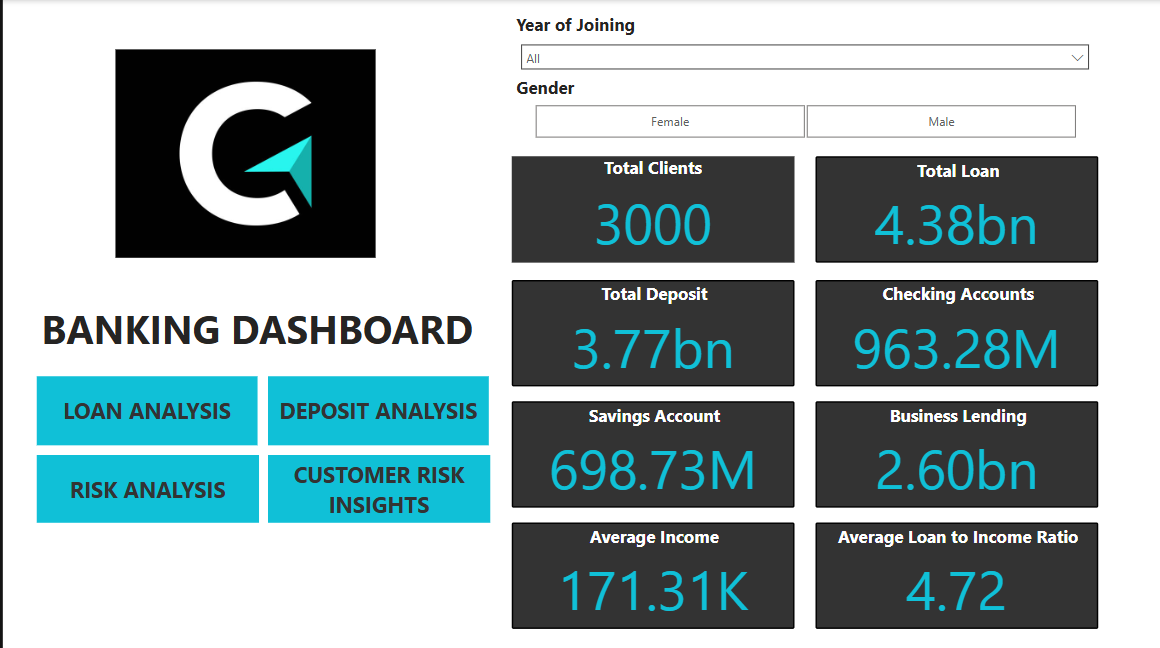

The dashboard page shown, as its layout file describes it:
{"tool":"powerbi","page":{"name":"Home","canvas":[1280,720],"ordinal":0},"visuals":[{"type":"textbox","box":[37.3,327.2,496.3,75.9],"z":0},{"type":"card","title":"Total Clients","fields":{"Values":["CountNonNull(Clients - Banking.Name)"]},"box":[558.5,171.5,310.1,116.6],"z":1000},{"type":"slicer","title":"Gender","fields":{"Values":["Gender.Gender"]},"box":[558.5,83.7,643.6,74.1],"z":2000},{"type":"card","title":"Total Loan","fields":{"Values":["Measure Table.Total Loan"]},"box":[891.9,171.5,310.1,116.6],"z":3000},{"type":"card","title":"Total Deposit","fields":{"Values":["Measure Table.Total Deposit"]},"box":[558.5,307.4,310.1,116.6],"z":4000},{"type":"card","title":"Checking Accounts","fields":{"Values":["Sum(Clients - Banking.Checking Accounts)"]},"box":[891.9,307.4,310.1,116.6],"z":5000},{"type":"card","title":"Savings Account","fields":{"Values":["Sum(Clients - Banking.Saving Accounts)"]},"box":[558.5,440.5,310.1,116.6],"z":6000},{"type":"card","title":"Business Lending","fields":{"Values":["Sum(Clients - Banking.Business Lending)"]},"box":[891.9,440.5,310.1,116.6],"z":7000},{"type":"slicer","title":"Year of Joining","fields":{"Values":["Clients - Banking.Year Of Joining"]},"box":[558.5,13.7,643.6,72.7],"z":8000},{"type":"actionButton","box":[37.3,413,242.6,75.9],"z":9000},{"type":"actionButton","box":[291.1,413,242.6,75.9],"z":10000},{"type":"actionButton","box":[37.3,498.8,243.8,74.6],"z":11000},{"type":"card","title":"Average Income","fields":{"Values":["Avg(Clients - Banking.Estimated Income)"]},"box":[558.5,573.6,310.1,116.6],"z":12000},{"type":"card","title":"Average Loan to Income Ratio","fields":{"Values":["Avg(Clients - Banking.Loan to Income Ratio)"]},"box":[891.9,573.6,310.1,116.6],"z":13000},{"type":"image","box":[37,49.4,458.3,238.8],"z":14000},{"type":"actionButton","box":[291.1,498.8,243.8,74.6],"z":14001}]}

Visuals, with their boxes in screenshot pixels (x1, y1, x2, y2), scaled from the page's 1280x720 canvas onto the 1160x648 screenshot:
textbox: <region>34, 294, 484, 363</region>
"Total Clients" card: <region>506, 154, 787, 259</region>
"Gender" slicer: <region>506, 75, 1089, 142</region>
"Total Loan" card: <region>808, 154, 1089, 259</region>
"Total Deposit" card: <region>506, 277, 787, 382</region>
"Checking Accounts" card: <region>808, 277, 1089, 382</region>
"Savings Account" card: <region>506, 396, 787, 501</region>
"Business Lending" card: <region>808, 396, 1089, 501</region>
"Year of Joining" slicer: <region>506, 12, 1089, 78</region>
actionButton: <region>34, 372, 254, 440</region>
actionButton: <region>264, 372, 484, 440</region>
actionButton: <region>34, 449, 255, 516</region>
"Average Income" card: <region>506, 516, 787, 621</region>
"Average Loan to Income Ratio" card: <region>808, 516, 1089, 621</region>
image: <region>34, 44, 449, 259</region>
actionButton: <region>264, 449, 485, 516</region>
